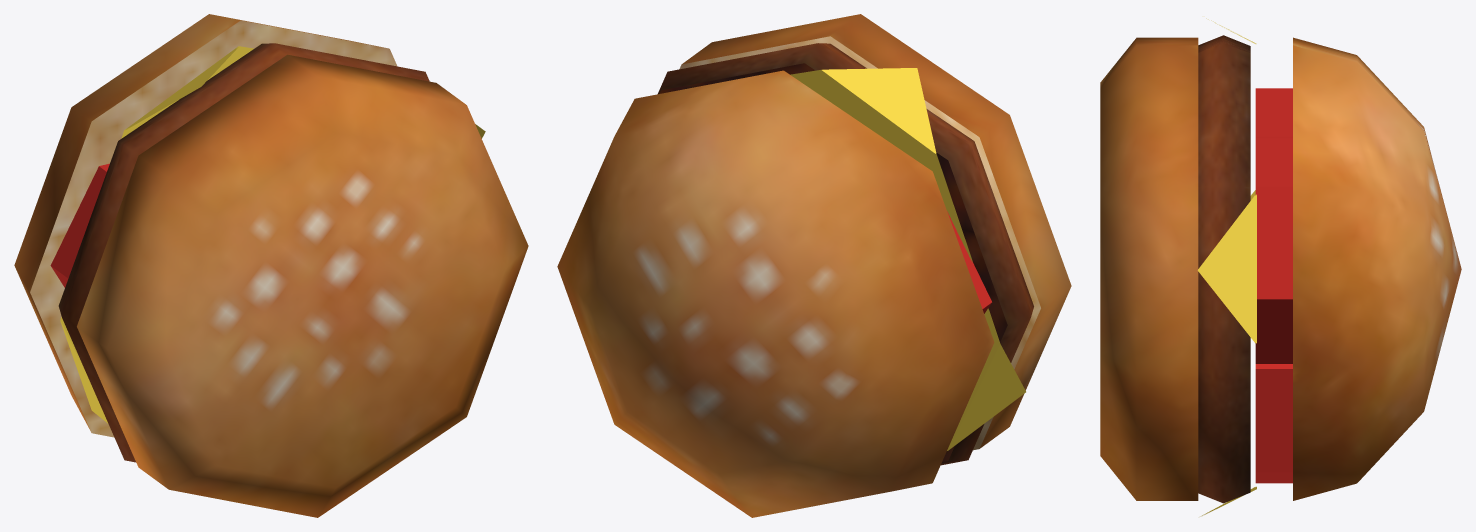
The model's file is Burger.fbx.
3 renders of one model, left to right at view 1: azimuth 30°, elevation 25°; view 2: azimuth 150°, elevation 25°; view 3: azimuth 270°, elevation 25°, orthographic.
Parts seen in each view (by area): view 1: Burger; view 2: Burger; view 3: Burger.
Part boxes in pixels (x1=…): Burger: x1=14, y1=14, x2=528, y2=517; Burger: x1=557, y1=14, x2=1071, y2=517; Burger: x1=1100, y1=18, x2=1461, y2=516.
Size of the model in its own units: 12.07 by 8.76 by 12.07.
